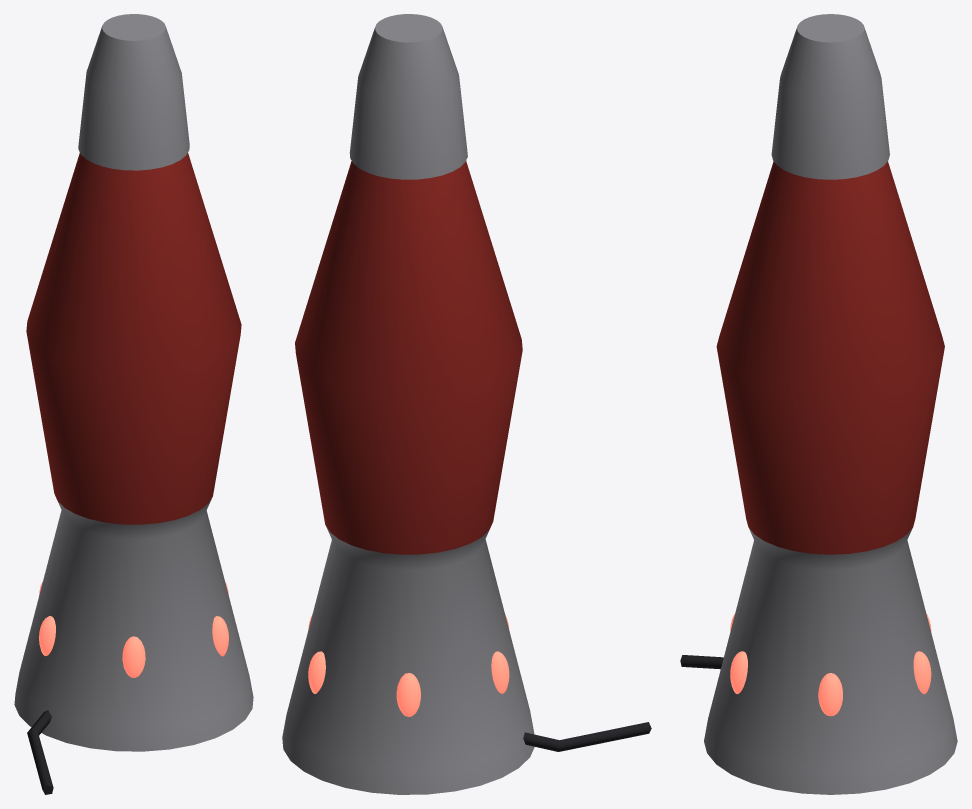
The model's file is lava_lamp.fbx.
3 views of the same model, side by side, from view 1: azimuth 30°, elevation 25°; view 2: azimuth 150°, elevation 25°; view 3: azimuth 270°, elevation 25° (orthographic). The views are drawn at different scales.
Visible parts, largest first — view 1: Lava Lamp; view 2: Lava Lamp; view 3: Lava Lamp.
Part boxes in pixels (x1,y1,x2,y2): Lava Lamp: (14,14,253,794); Lava Lamp: (282,14,651,794); Lava Lamp: (680,14,957,794).
Bounding box in the file's own units: 0.7638 × 1.87 × 0.6557.
